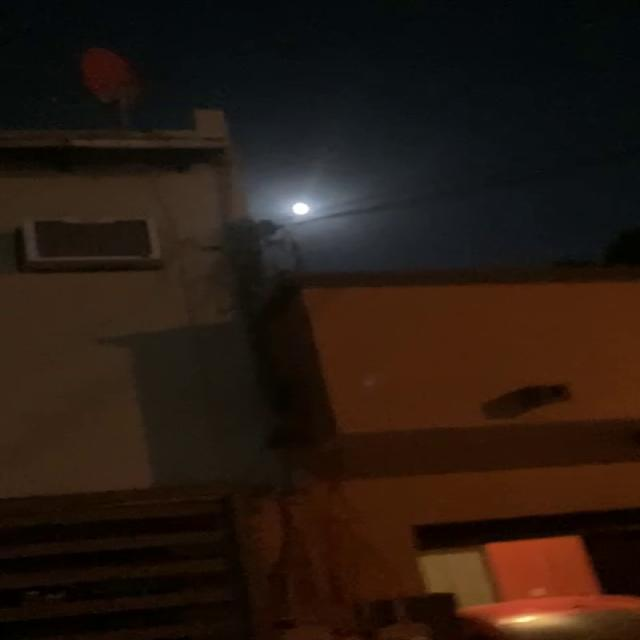moon: (280, 188, 326, 218)
